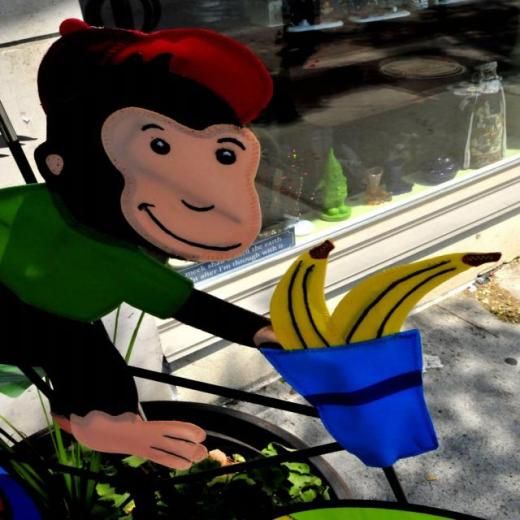Banana: (327, 255, 502, 343), (271, 239, 347, 351)
